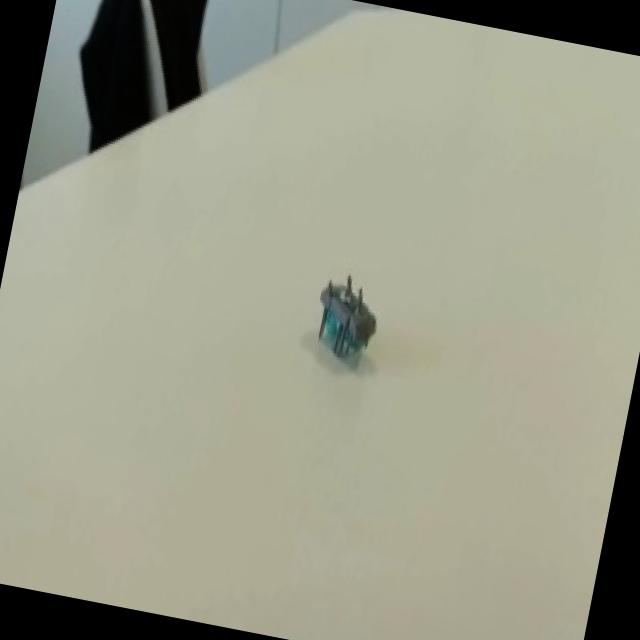5_NanoBug_GrisClaro: (280, 249, 414, 396)
